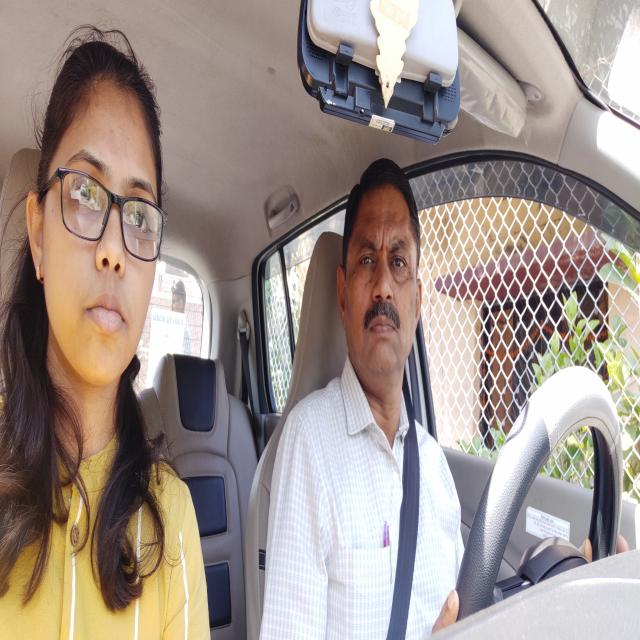person: (41, 47, 166, 382), (342, 174, 424, 376)
